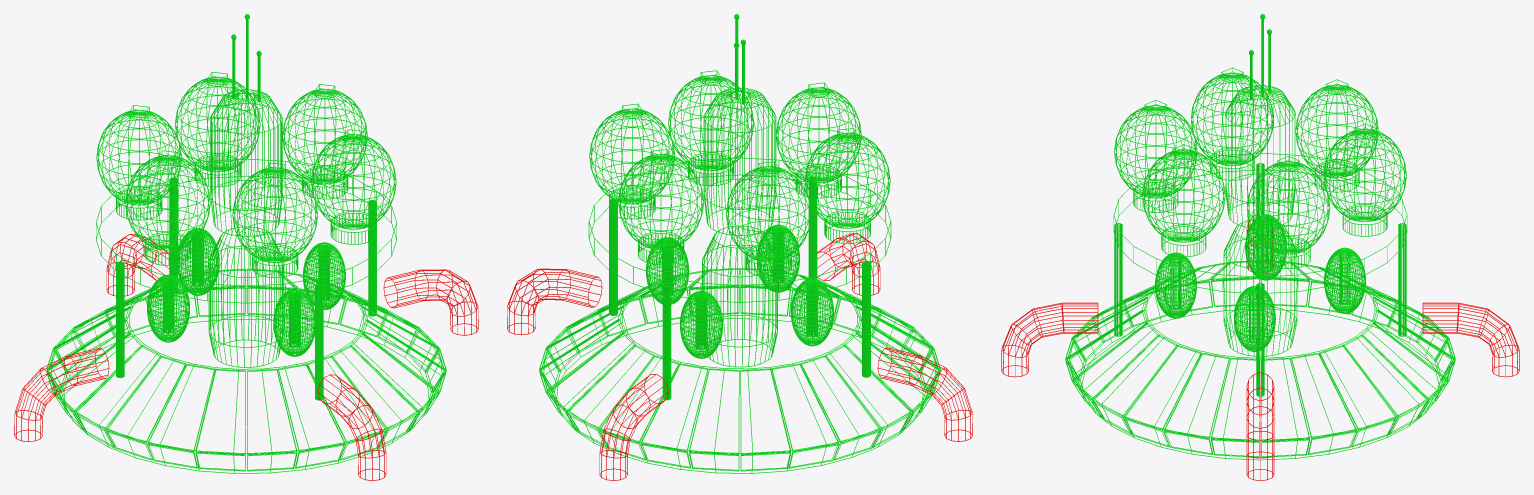
Rendered from powerplant-highlight-four-waste-ore-pipes.glb.
3 views of the same model, side by side, from view 1: azimuth 30°, elevation 25°; view 2: azimuth 150°, elevation 25°; view 3: azimuth 270°, elevation 25° (orthographic). The views are drawn at different scales.
Parts seen in each view (by area): view 1: six-fusion-reactor-cells technical wire, chassis technical wire, asteros-mini-mining-facility technical wire, four-waste-ore-pipes technical wire, control-computer-and-antennae technical wire; view 2: six-fusion-reactor-cells technical wire, chassis technical wire, asteros-mini-mining-facility technical wire, four-waste-ore-pipes technical wire, control-computer-and-antennae technical wire; view 3: six-fusion-reactor-cells technical wire, chassis technical wire, asteros-mini-mining-facility technical wire, four-waste-ore-pipes technical wire, control-computer-and-antennae technical wire.
Boxes of the visible parts, <box> form: six-fusion-reactor-cells technical wire: <box>96,72,396,277</box>; chassis technical wire: <box>46,158,446,473</box>; asteros-mini-mining-facility technical wire: <box>147,226,345,367</box>; four-waste-ore-pipes technical wire: <box>14,234,478,480</box>; control-computer-and-antennae technical wire: <box>210,14,282,236</box>; six-fusion-reactor-cells technical wire: <box>589,70,890,277</box>; chassis technical wire: <box>539,157,940,473</box>; asteros-mini-mining-facility technical wire: <box>646,224,833,367</box>; four-waste-ore-pipes technical wire: <box>507,233,972,480</box>; control-computer-and-antennae technical wire: <box>703,14,776,235</box>; six-fusion-reactor-cells technical wire: <box>1114,67,1406,268</box>; chassis technical wire: <box>1065,153,1455,460</box>; asteros-mini-mining-facility technical wire: <box>1155,214,1365,356</box>; four-waste-ore-pipes technical wire: <box>1001,213,1519,480</box>; control-computer-and-antennae technical wire: <box>1225,14,1295,228</box>.
Bounding box in the file's own units: 3.25 × 2.57 × 3.25.
